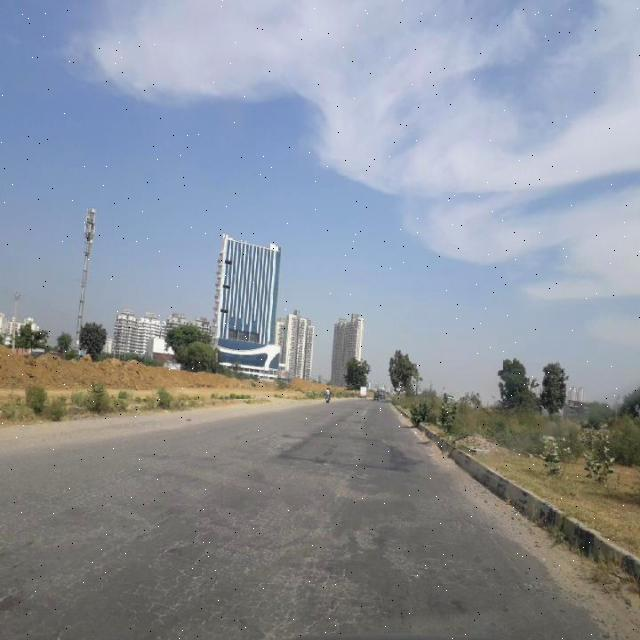D20: (0, 456, 425, 628)
D40: (350, 520, 388, 556)
